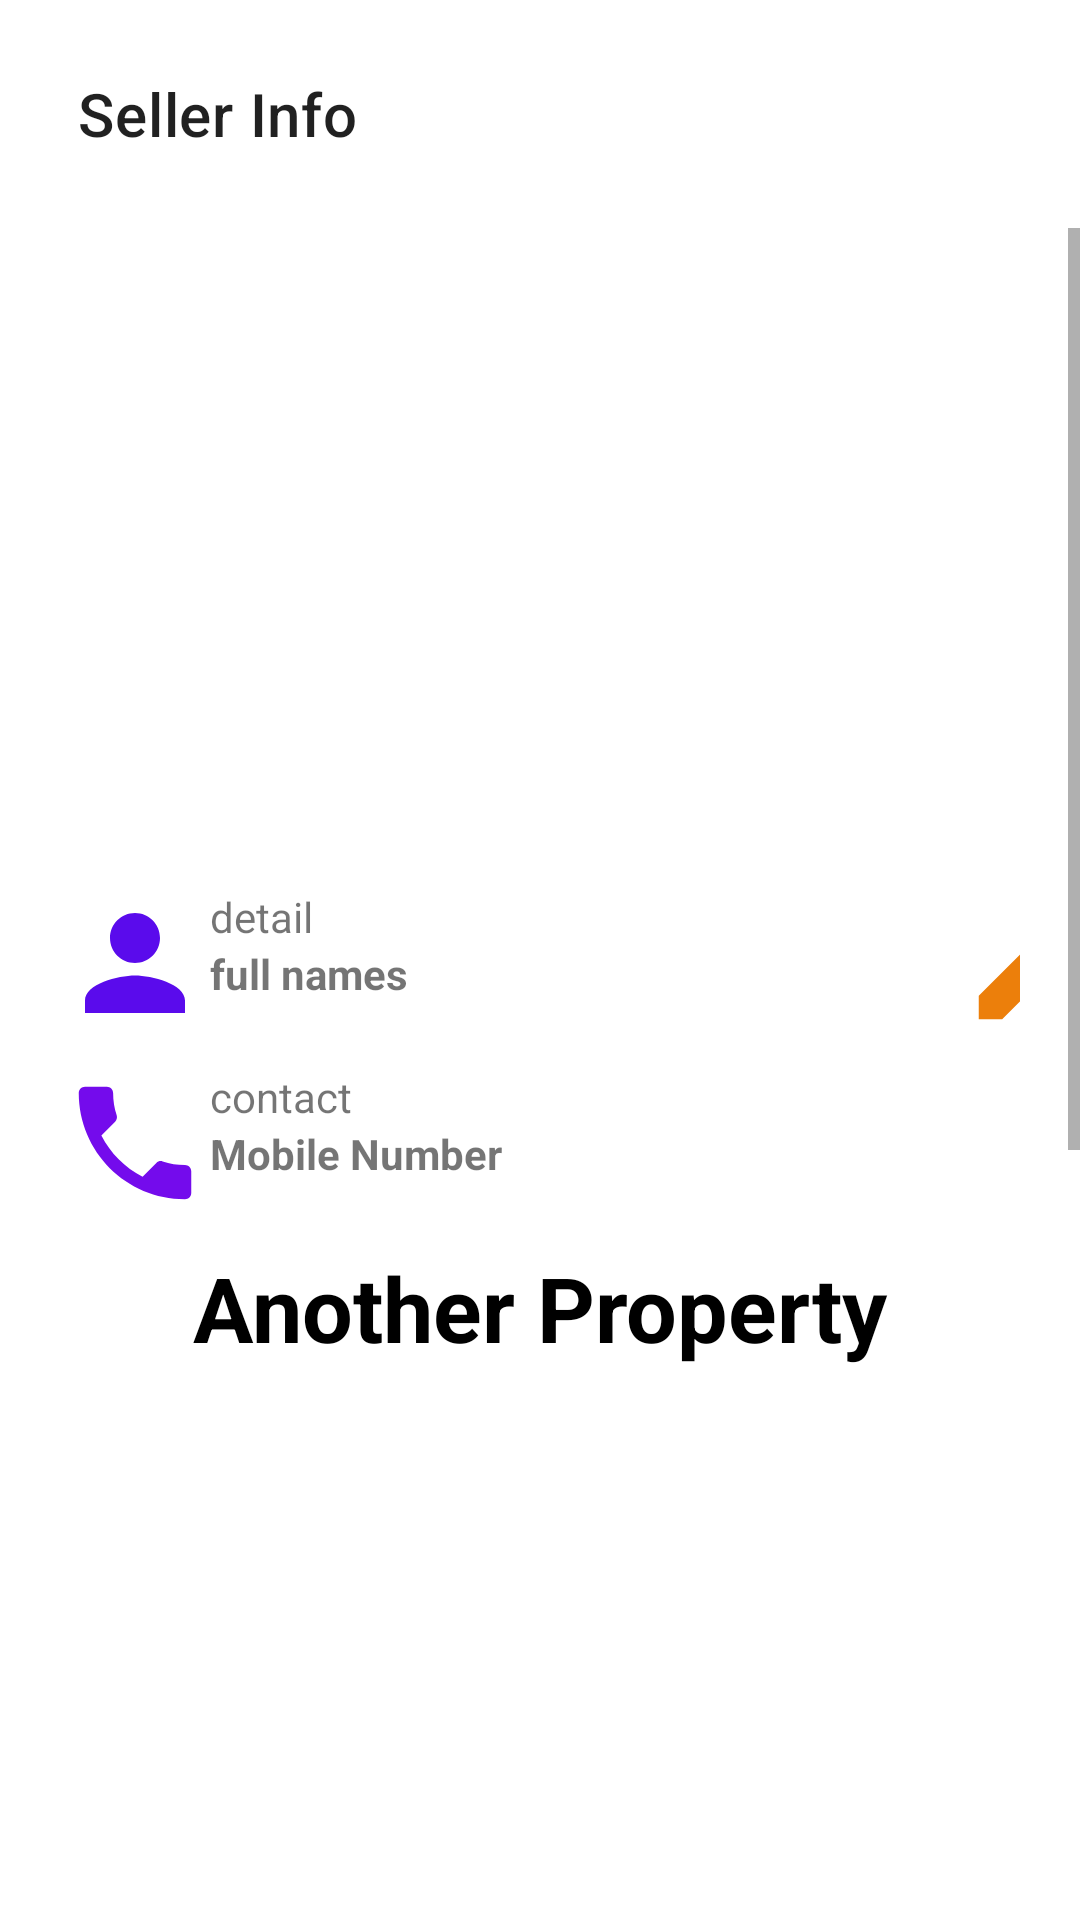

Named icons in this screenshot (1080px x 1920px) and their bounding boxes, (x1, y1, x2, y2):
person: (85, 913, 185, 1013)
phone: (78, 1086, 192, 1200)
